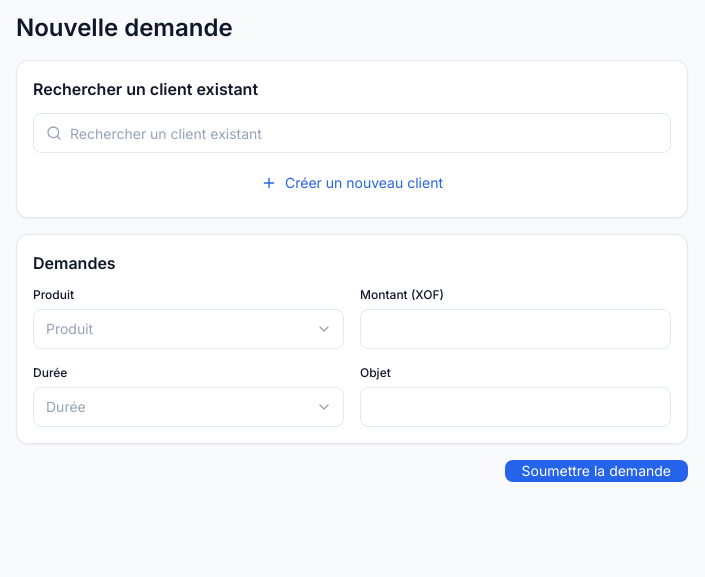
Test case: ApplicationNewPage › suggests matching clients while typing
The width and height of the screenshot is (705, 577).
Type "bin" into the search field.
click(352, 133); type("bin")  # box [34,114,670,152]
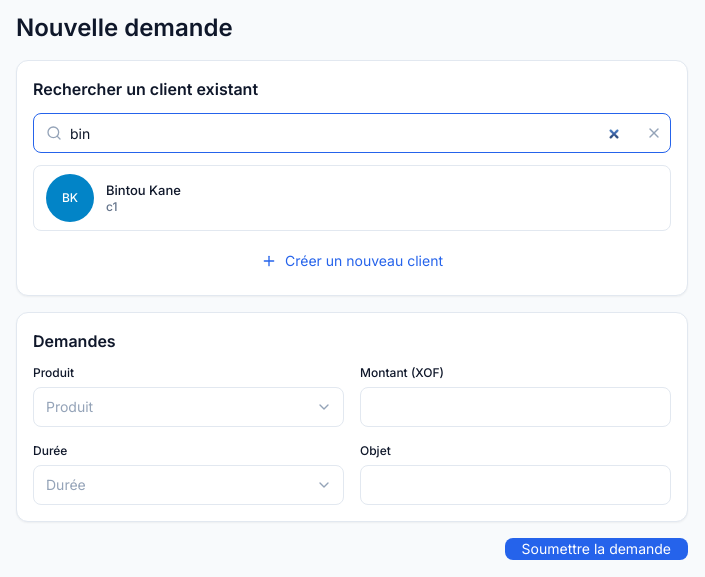
Expected: the text "Bintou Kane" is shown, [106,182,181,198]
